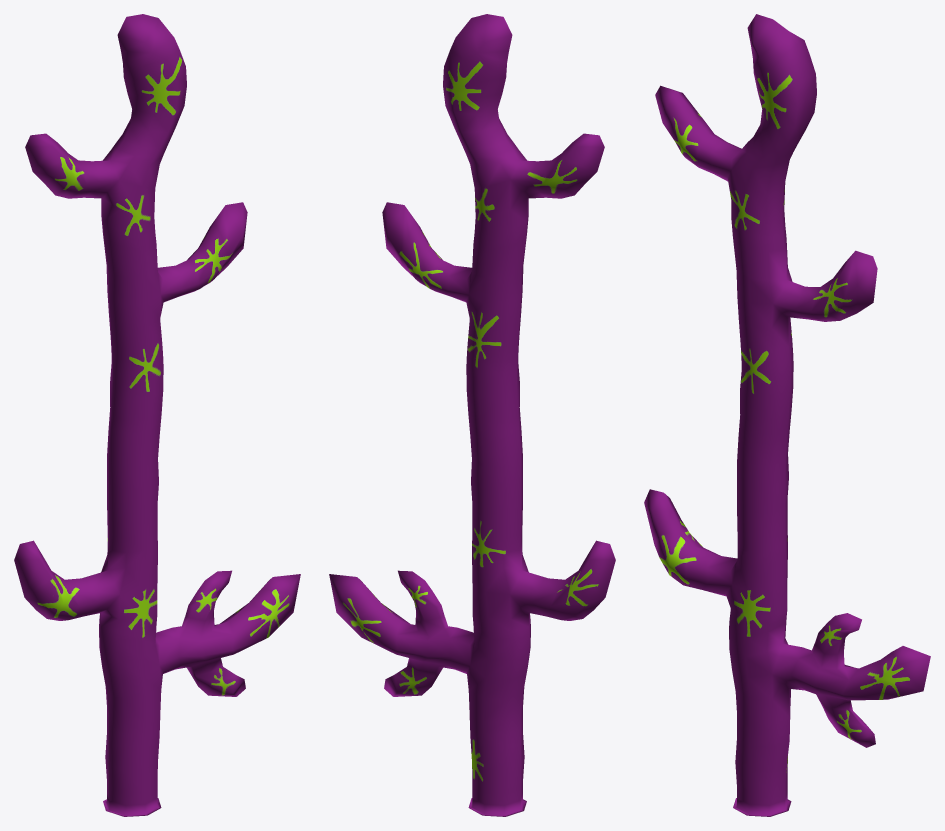
File: object_126_lev3.glb
3 renders of one model, left to right at view 1: azimuth 30°, elevation 25°; view 2: azimuth 150°, elevation 25°; view 3: azimuth 330°, elevation 25°, orthographic.
Visible parts, largest first — view 1: object_126_lev3; view 2: object_126_lev3; view 3: object_126_lev3.
Part boxes in pixels (bbox=[...]): object_126_lev3: bbox=[14, 14, 300, 816]; object_126_lev3: bbox=[329, 14, 615, 816]; object_126_lev3: bbox=[644, 14, 930, 816].
Size of the model in its own units: 4.01 by 10.55 by 0.7341.
1 material, 1 textured.
